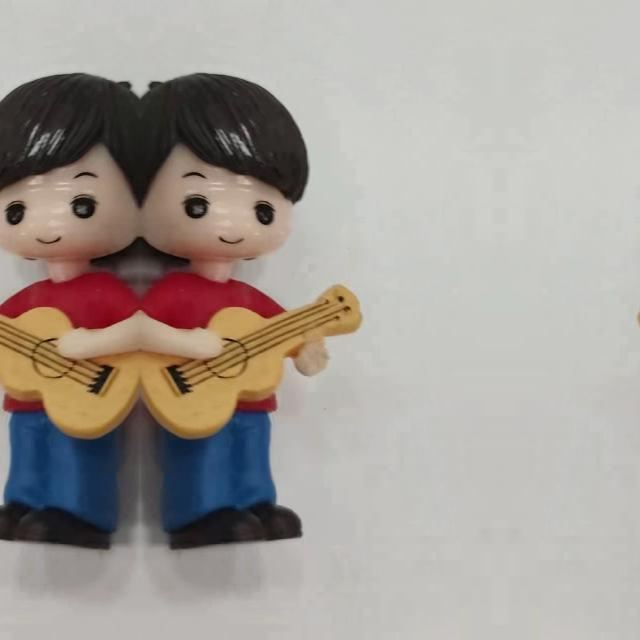man cloth: (140, 274, 310, 416), (0, 274, 140, 416)
man head: (140, 61, 312, 266), (0, 61, 140, 266)
trousers: (156, 407, 312, 563), (0, 407, 124, 563)
